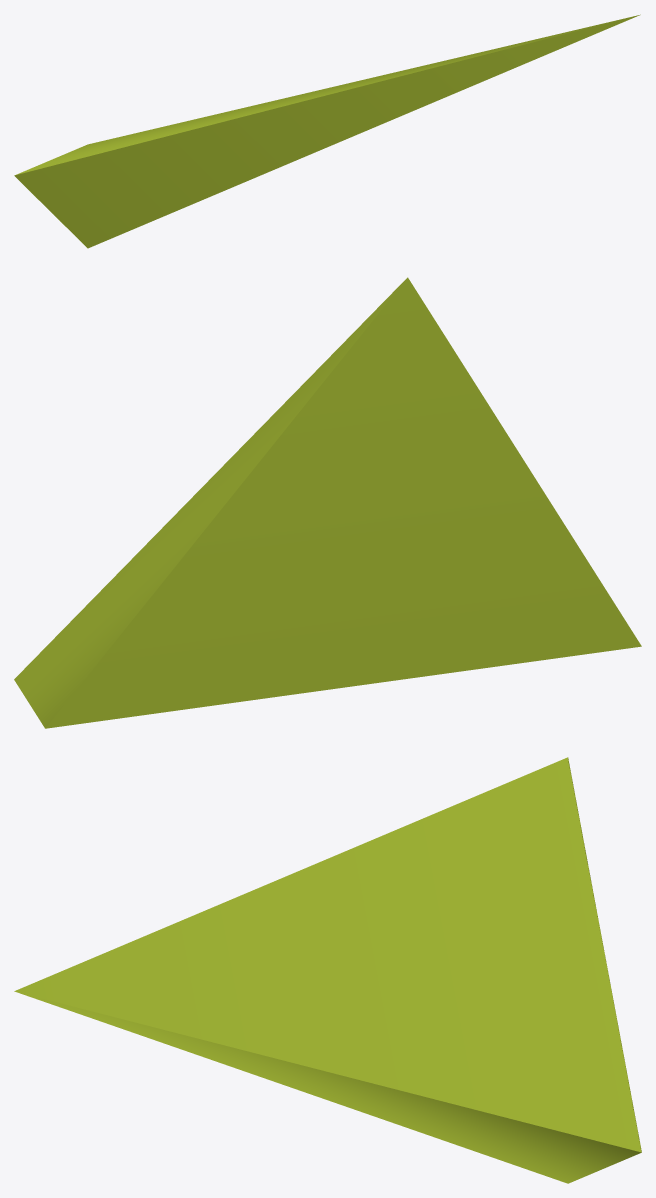
3 views of the same model, one above another, from view 1: azimuth 90°, elevation 25°; view 2: azimuth 150°, elevation 25°; view 3: azimuth 270°, elevation 25° (orthographic). The views are drawn at different scales.
Visible parts, largest first — view 1: Cube_Grass_Corner_Tall.002; view 2: Cube_Grass_Corner_Tall.002; view 3: Cube_Grass_Corner_Tall.002.
Boxes of the visible parts, left/top/right/bottom form: Cube_Grass_Corner_Tall.002: left=14, top=14, right=640, bottom=248; Cube_Grass_Corner_Tall.002: left=14, top=277, right=641, bottom=728; Cube_Grass_Corner_Tall.002: left=14, top=757, right=641, bottom=1183.
Bounding box in the file's own units: 17.2 × 4.87 × 17.2.
